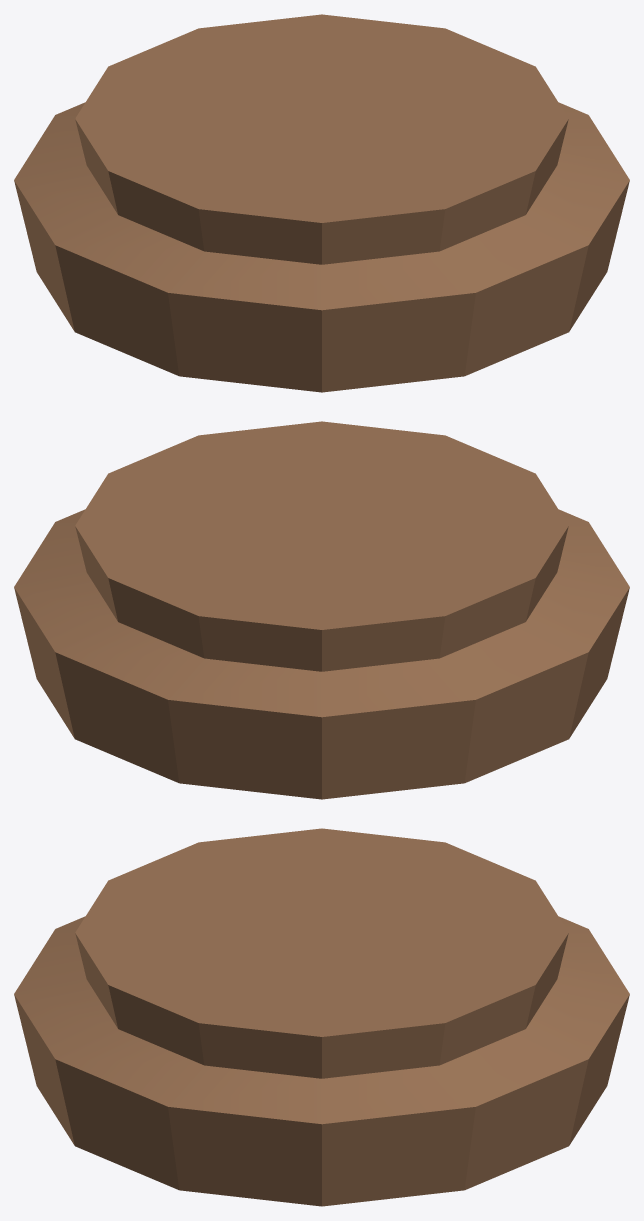
Rendered from Candle_02_BaseB.fbx.
The picture shows the model from 3 angles, top to bottom: view 1: azimuth 30°, elevation 25°; view 2: azimuth 150°, elevation 25°; view 3: azimuth 270°, elevation 25°; orthographic projection.
Parts seen in each view (by area): view 1: Candle_02_BaseB; view 2: Candle_02_BaseB; view 3: Candle_02_BaseB.
Part boxes in pixels (<box>): Candle_02_BaseB: <box>14,14,629,392</box>; Candle_02_BaseB: <box>14,421,629,799</box>; Candle_02_BaseB: <box>14,828,629,1206</box>.
Size of the model in its own units: 21.7 by 5.96 by 21.7.
